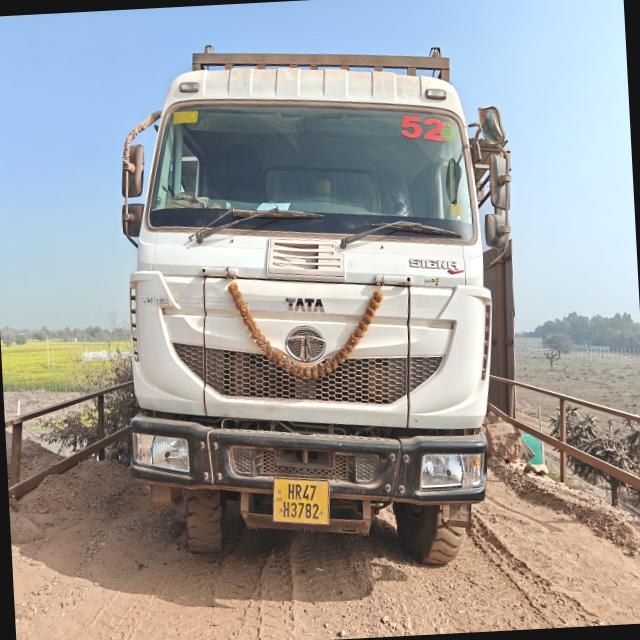license_plate: (274, 478, 329, 525)
